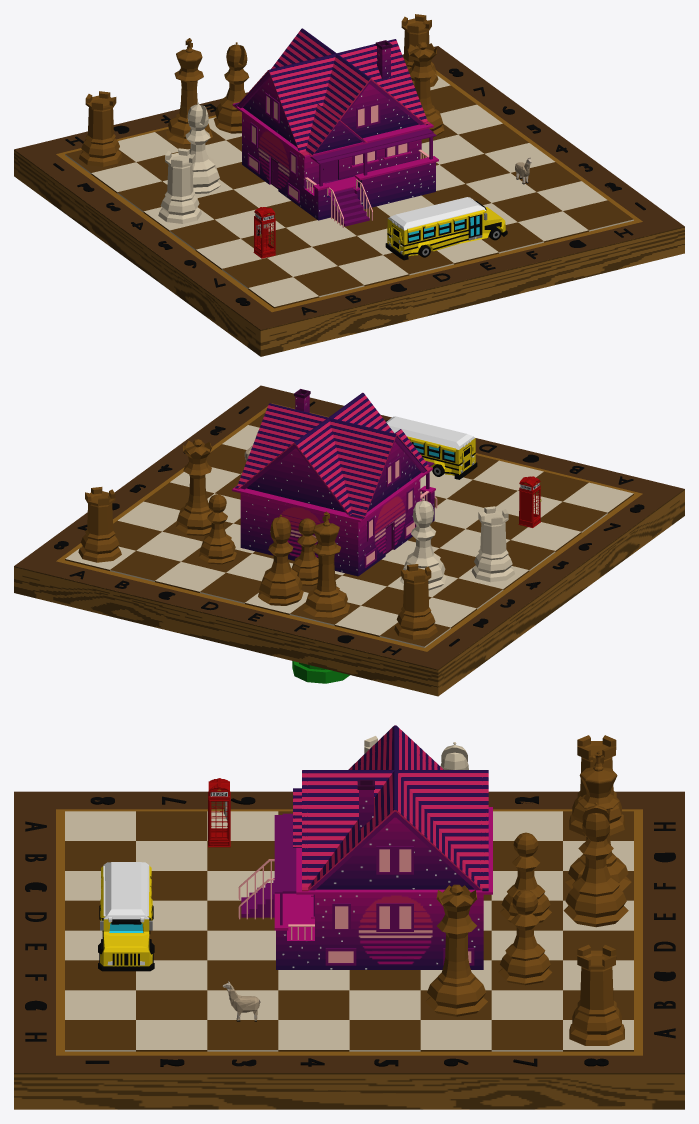
3 views of the same model, one above another, from view 1: azimuth 30°, elevation 25°; view 2: azimuth 150°, elevation 25°; view 3: azimuth 270°, elevation 25° (orthographic). The views are drawn at different scales.
Visible parts, largest first — view 1: Cube.002, Cube.156, VEHICLES_SCHOOL_BUS, OBJRANDOM_PHONEBOOTH; view 2: Cube.002, Cube.156, VEHICLES_SCHOOL_BUS, OBJRANDOM_PHONEBOOTH, UNDERGROUND_PIPES; view 3: Cube.002, Cube.156, VEHICLES_SCHOOL_BUS, OBJRANDOM_PHONEBOOTH, ANIMAL_LLAMA.
Part boxes in pixels (box(x1,y1,x2,y2)): Cube.002: box(14, 14, 684, 356); Cube.156: box(232, 28, 438, 227); VEHICLES_SCHOOL_BUS: box(385, 197, 507, 260); OBJRANDOM_PHONEBOOTH: box(253, 207, 275, 258); Cube.002: box(14, 385, 684, 696); Cube.156: box(232, 389, 437, 576); VEHICLES_SCHOOL_BUS: box(385, 416, 477, 479); OBJRANDOM_PHONEBOOTH: box(518, 476, 541, 527); UNDERGROUND_PIPES: box(292, 661, 349, 683); Cube.002: box(14, 735, 684, 1109); Cube.156: box(238, 725, 492, 969); VEHICLES_SCHOOL_BUS: box(98, 862, 154, 971); OBJRANDOM_PHONEBOOTH: box(208, 778, 230, 847); ANIMAL_LLAMA: box(222, 981, 260, 1021).
Size of the model in its own units: 3981 by 2068 by 4012.
Materials: 42 (4 with a texture image).
